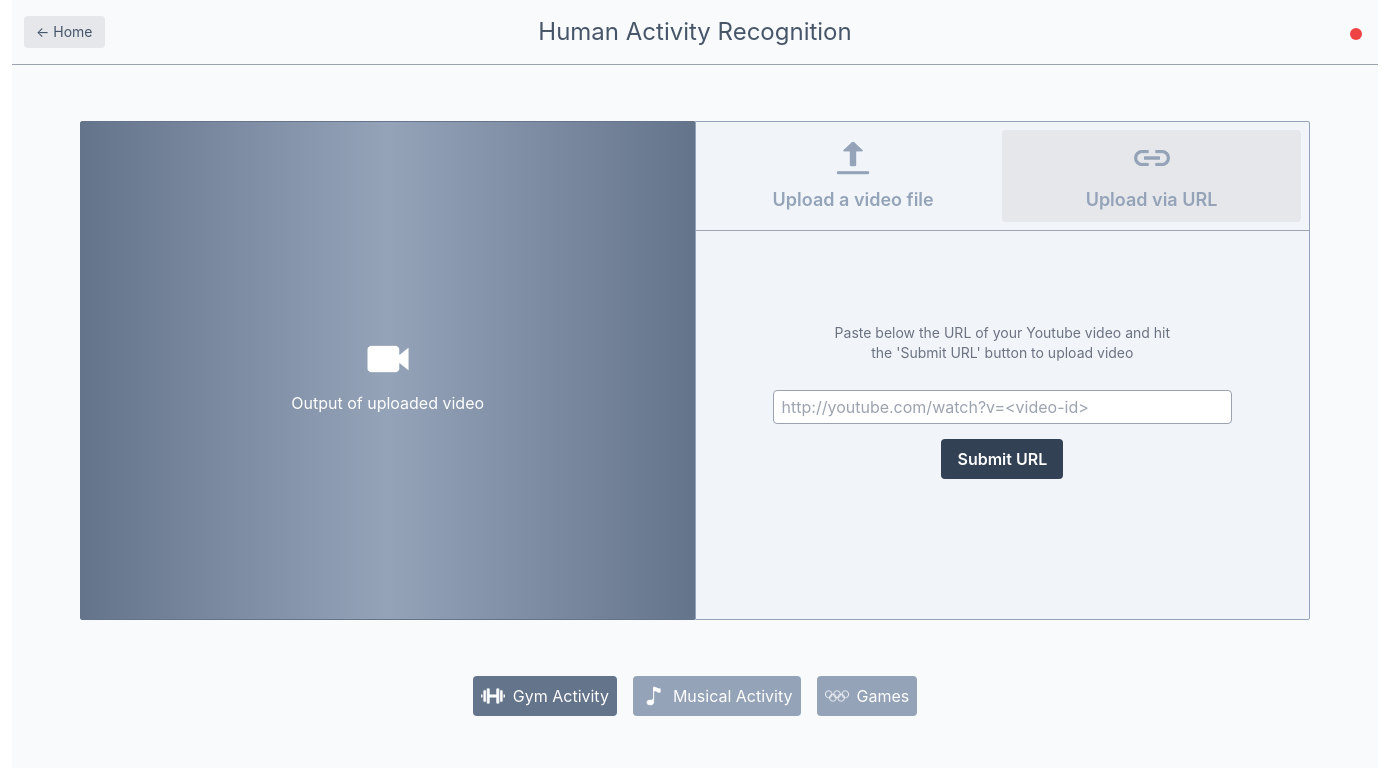
Integration testing of render components › route back to Home page
The width and height of the screenshot is (1390, 768).
Click the link "← Home".
click(64, 32)  # box [24,16,104,48]
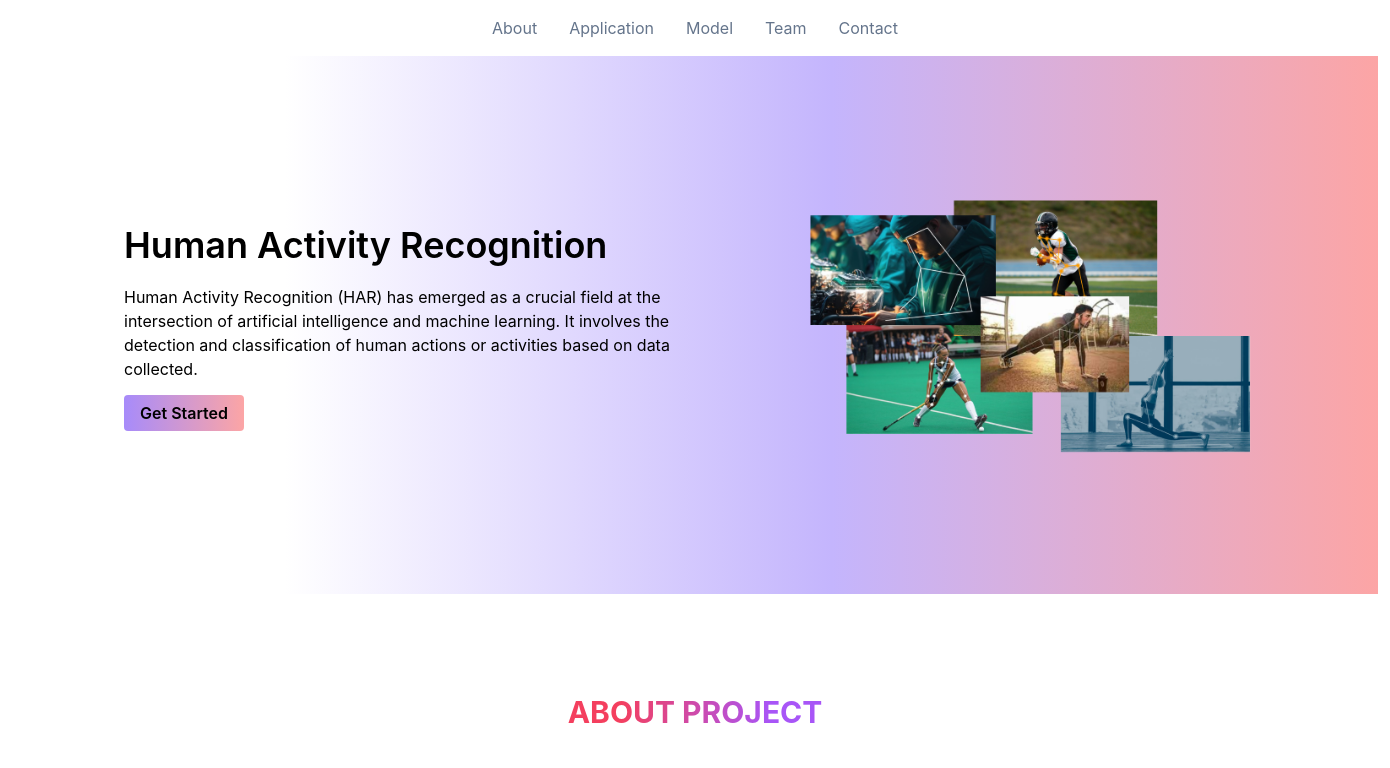
expect the link "Get Started" is shown: met, box [124,395,244,431]
